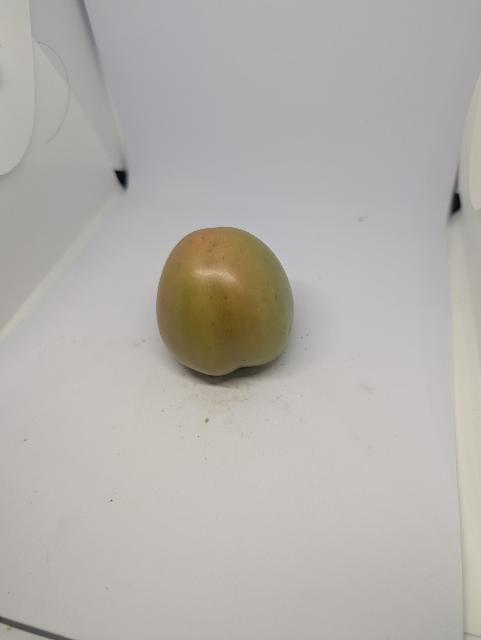breaker: (157, 227, 294, 375)
